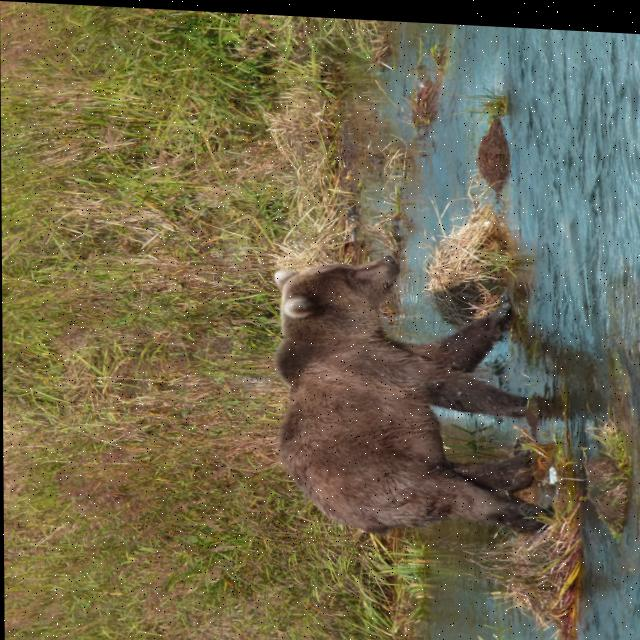bear face: (271, 245, 542, 528)
